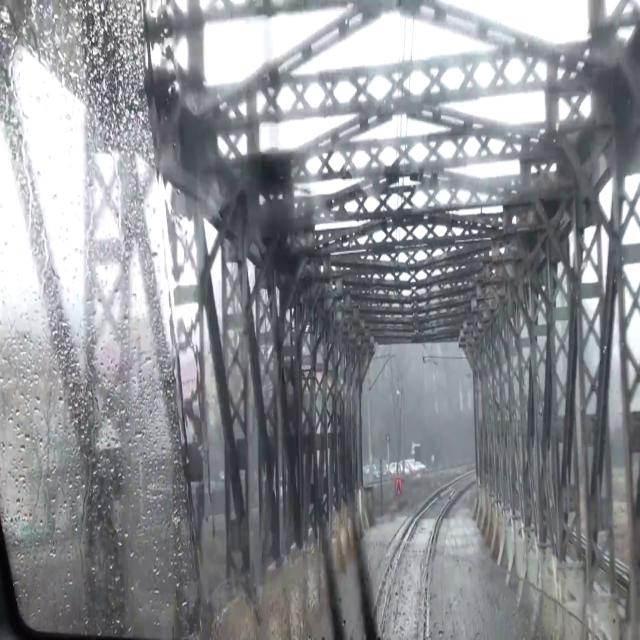rail-track: (385, 499, 444, 639), (372, 613, 382, 639)
